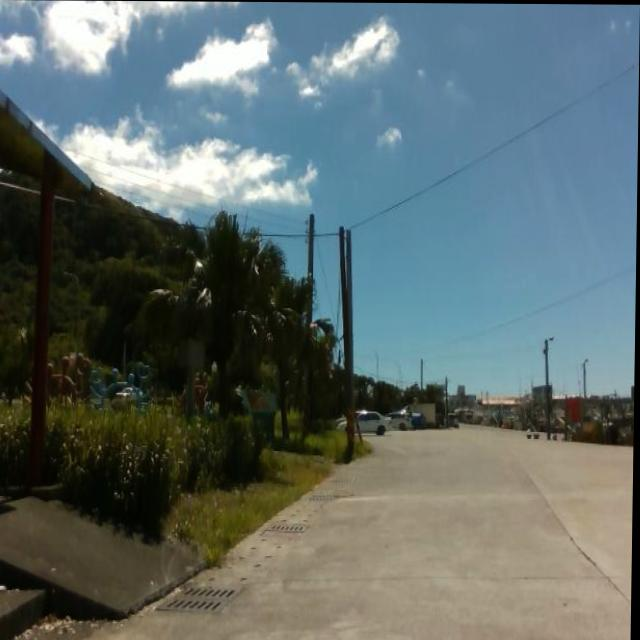pollute: (0, 584, 10, 593)
